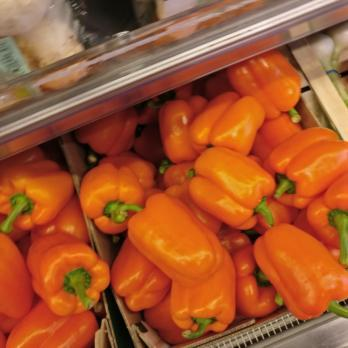Capsicum: (99, 105, 278, 320), (223, 64, 348, 319), (0, 161, 109, 348)
